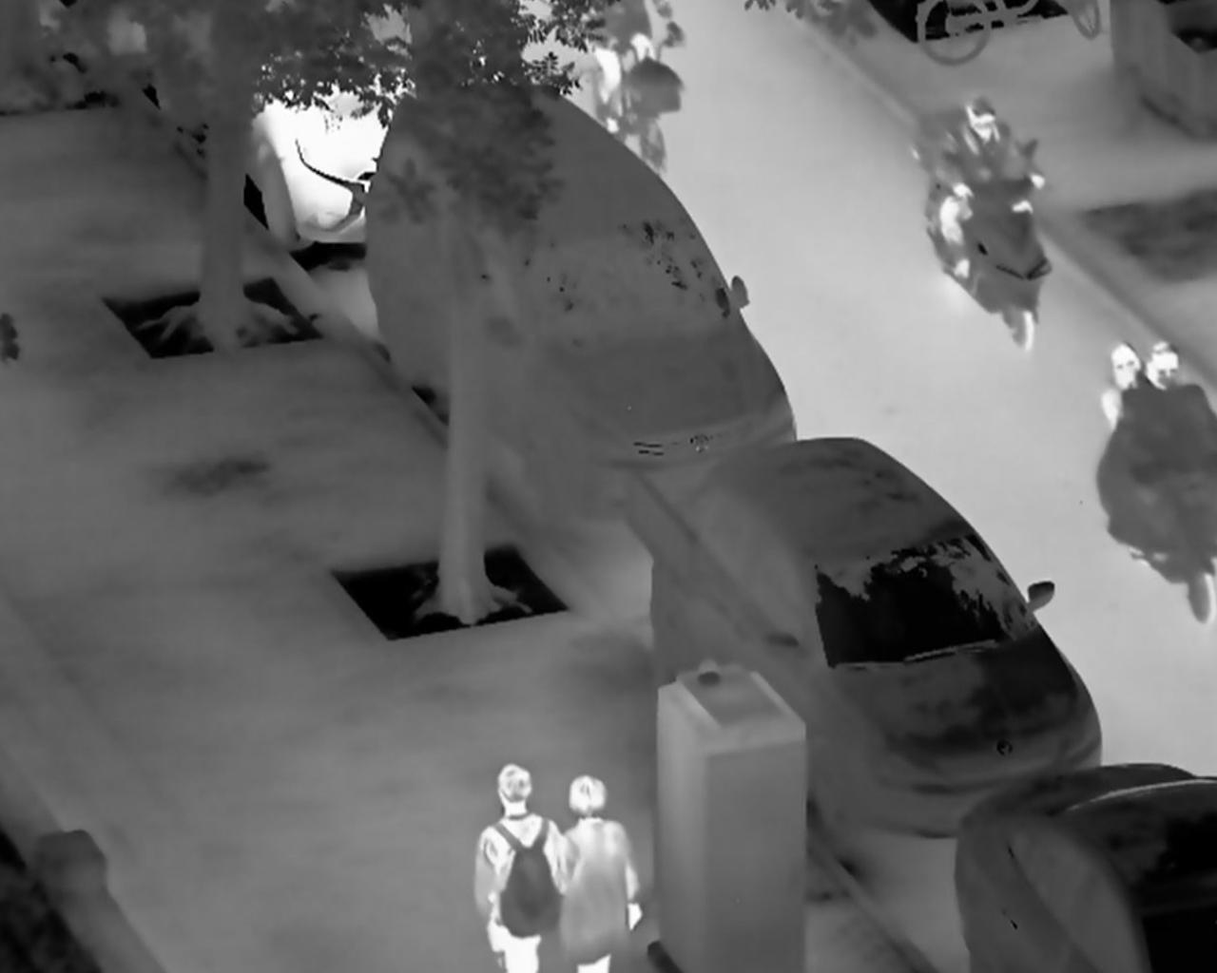person: (939, 96, 1052, 283), (471, 761, 565, 973), (559, 773, 642, 973), (580, 2, 677, 138)
